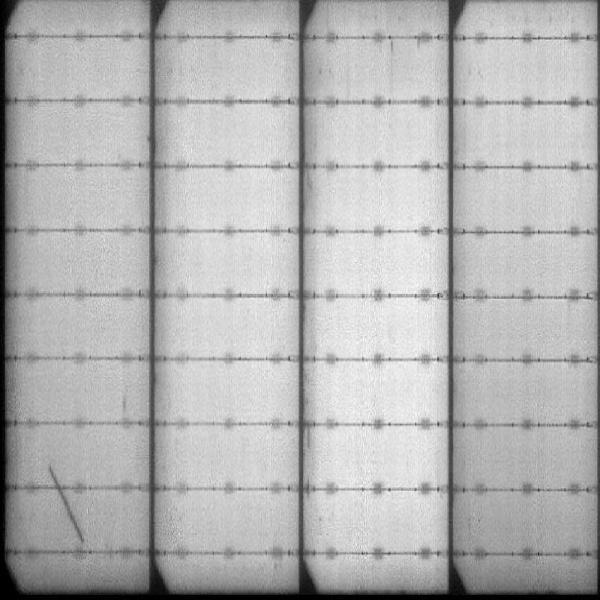scratch: (45, 463, 83, 538)
